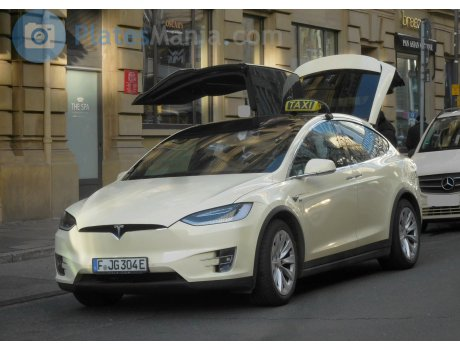License Plates: (90, 248, 155, 273)
